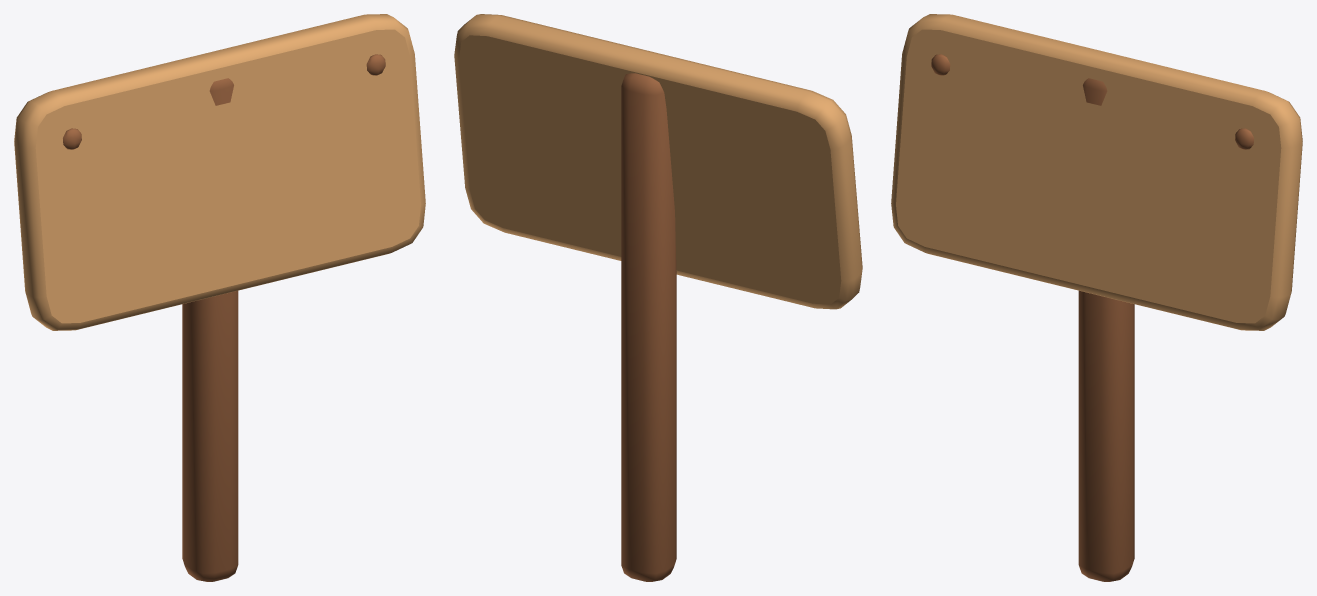
The model's file is prop_sign.glb.
The picture shows the model from 3 angles, left to right: view 1: azimuth 30°, elevation 25°; view 2: azimuth 150°, elevation 25°; view 3: azimuth 330°, elevation 25°; orthographic projection.
Parts seen in each view (by area): view 1: prop_sign; view 2: prop_sign; view 3: prop_sign.
Boxes of the visible parts, x1=… form: prop_sign: x1=14, y1=14, x2=425, y2=581; prop_sign: x1=454, y1=14, x2=862, y2=581; prop_sign: x1=891, y1=14, x2=1302, y2=581.
Bounding box in the file's own units: 0.8 × 1.02 × 0.1369.
